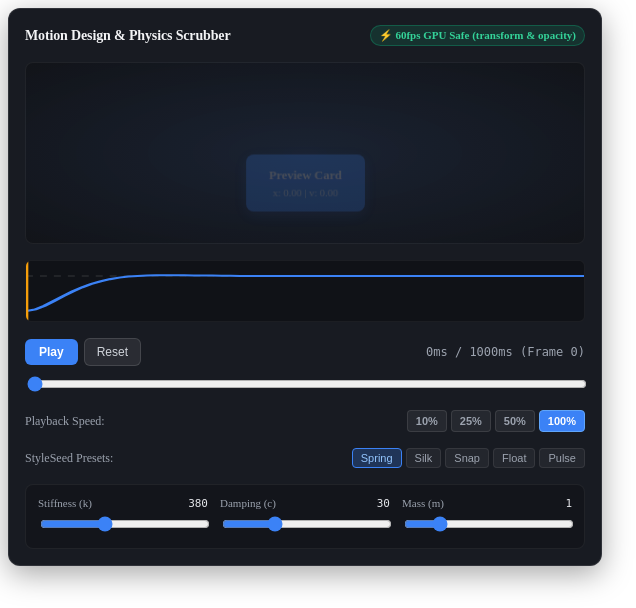
Visual Studio UI Components › AnimationScrubber & 60fps GPU Acceleration › supports pause/scrub slider and updates specimen via transform and opacity only
Set the slider with test id "time-scrubber-slider" to "500". click: (307, 384)
box: left=27, top=376, right=587, bottom=392
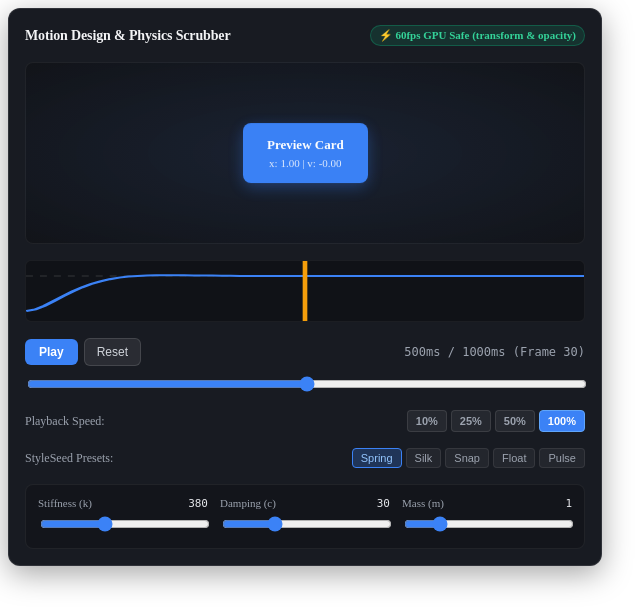
Check: the text with test id "scrubber-timestamp" shows "500ms", box left=404, top=345, right=585, bottom=359
